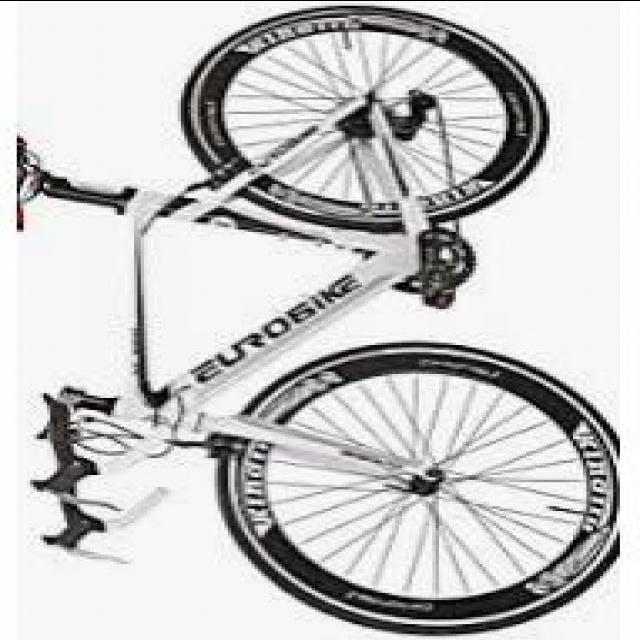bicycle: (24, 1, 610, 605)
